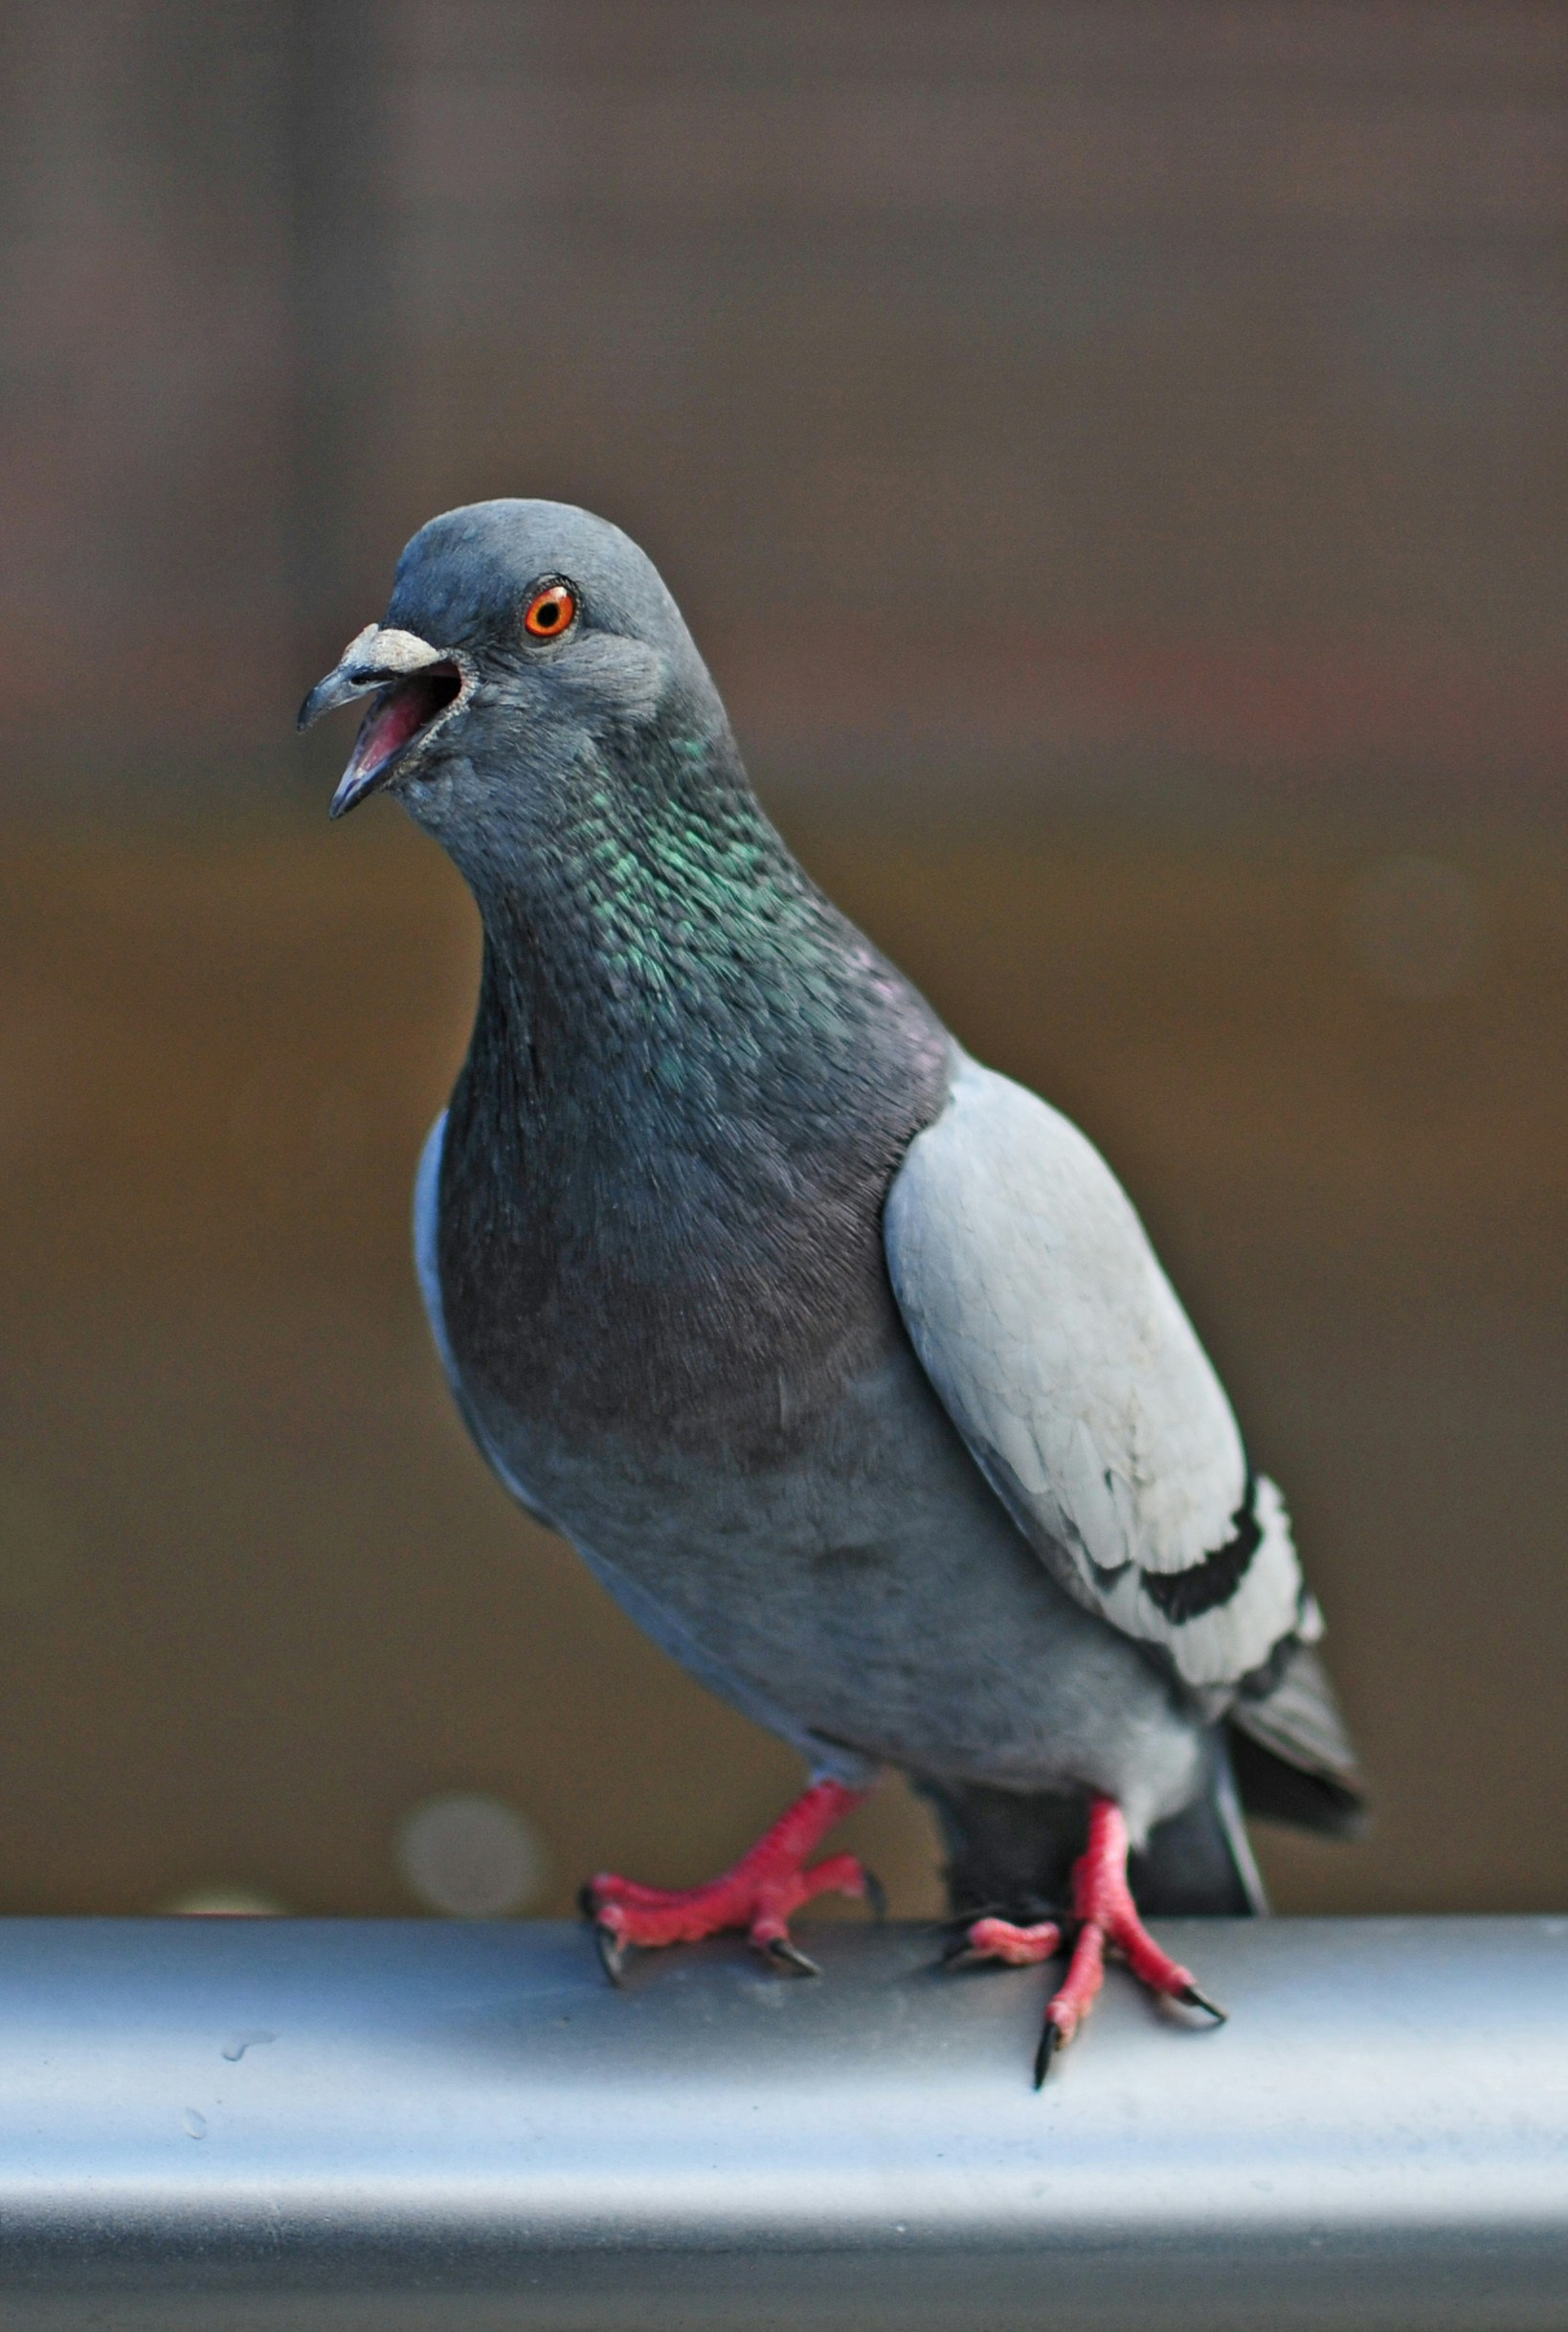pigeon: (262, 450, 1447, 2106)
